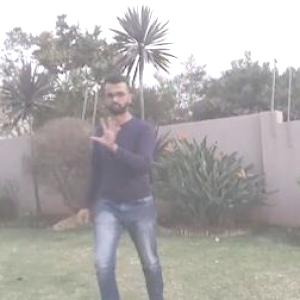follow_hand: (88, 112, 124, 152)
